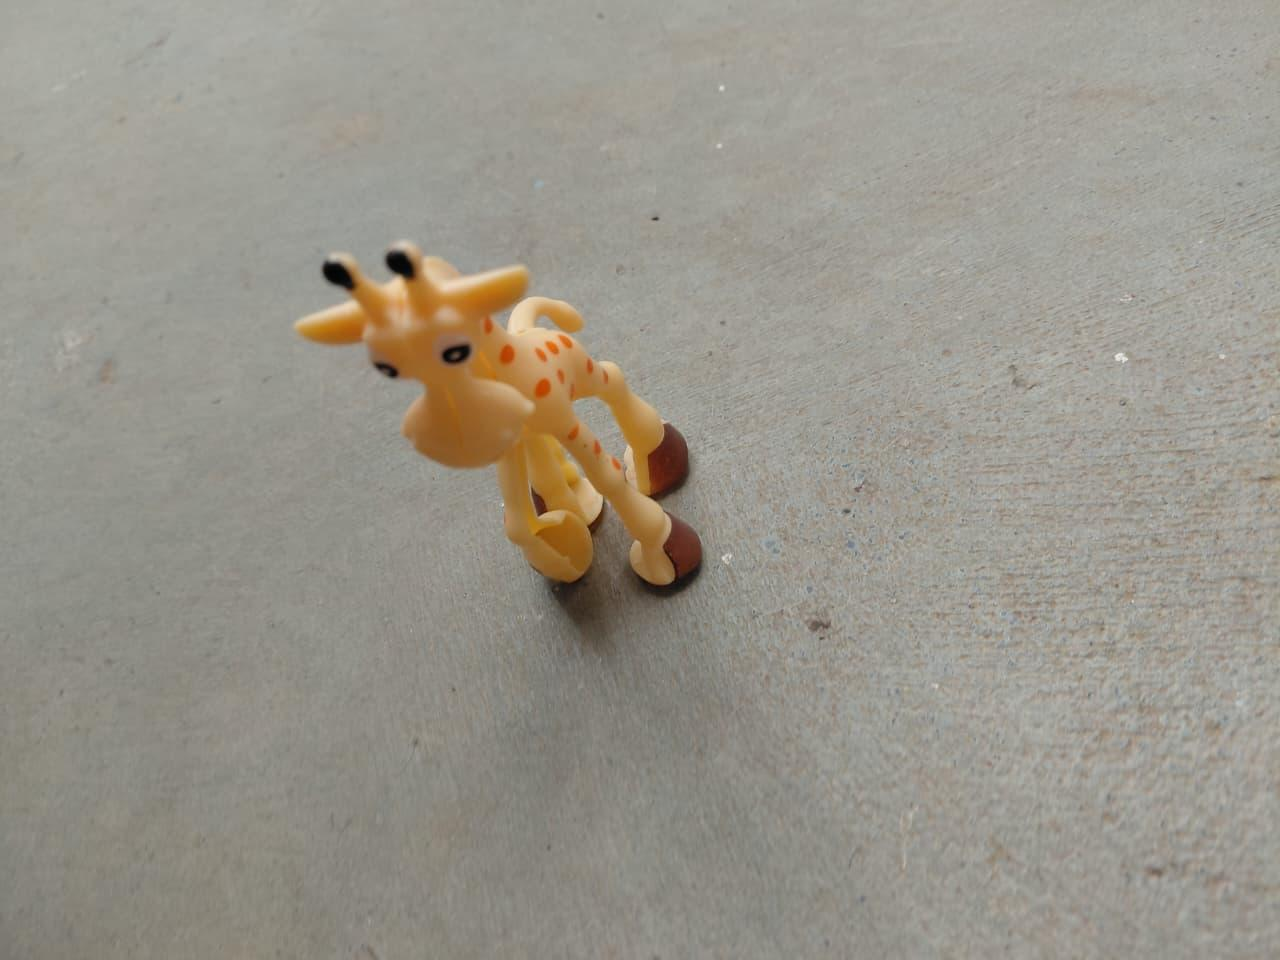giraffe: (294, 232, 719, 647)
